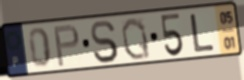0: (27, 26, 54, 71)
5: (159, 11, 185, 58)
L: (189, 12, 217, 54)
P: (52, 23, 82, 69)
Q: (120, 16, 152, 62)
S: (89, 18, 121, 65)
